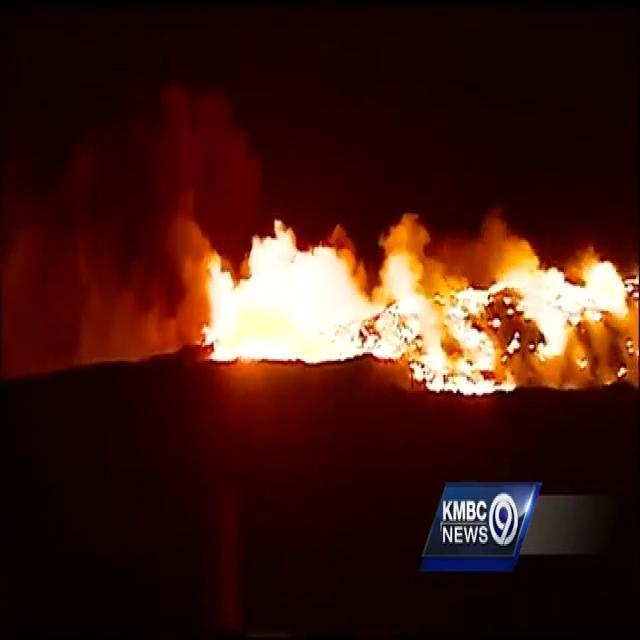Fire: (186, 193, 640, 392)
Smoke: (0, 78, 192, 361)
